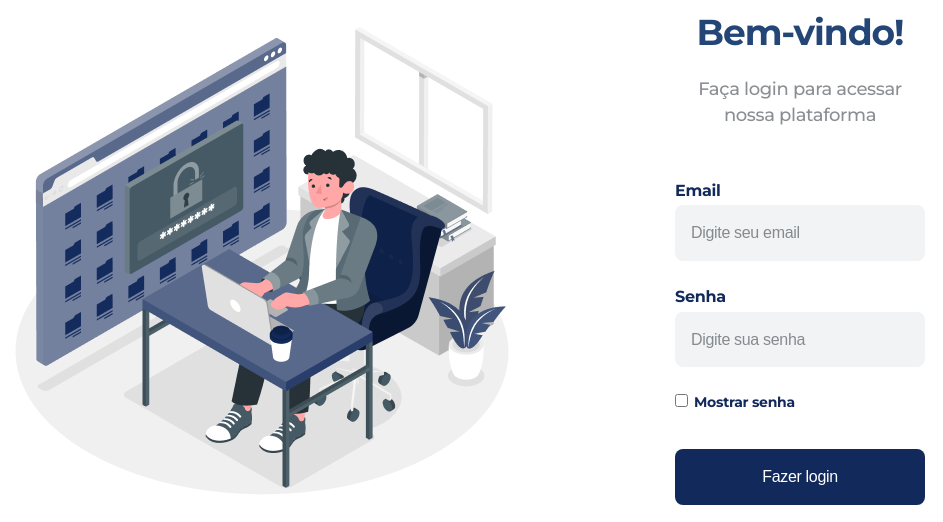
Test case: Exibe mensagem de erro caso haja problemas no login › Exibe mensagem "Erro no sistema, tente novamente mais tarde"
Type "email@email.com" into the field labelled "Email" at x=800, y=233, box [675,205,925,261]
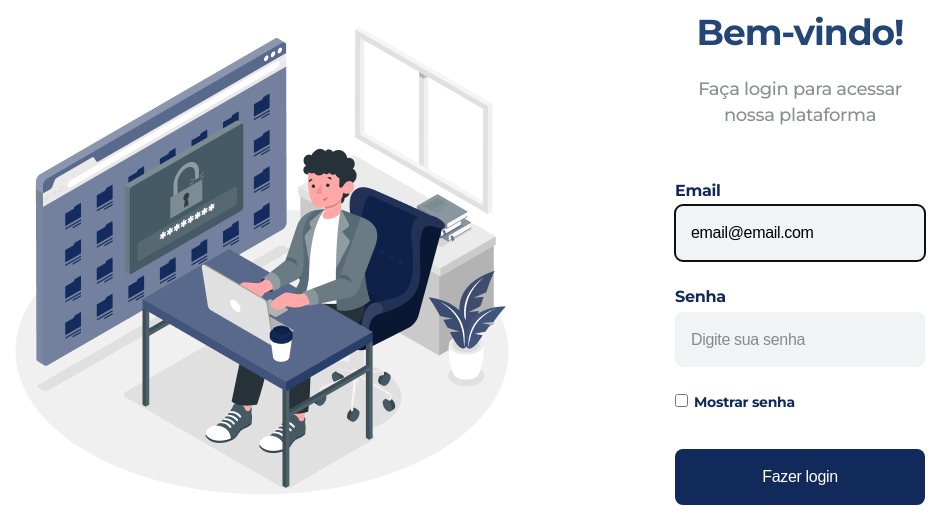
Type "123456" into the password field labelled "Senha" at x=800, y=340, box [675,312,925,367]
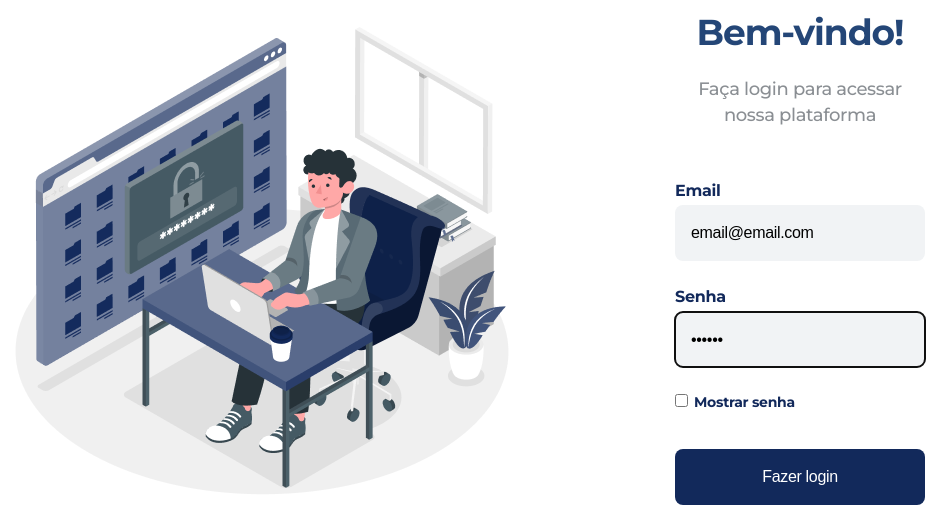
Click the button "Fazer login" at x=800, y=477, box [675,449,925,505]
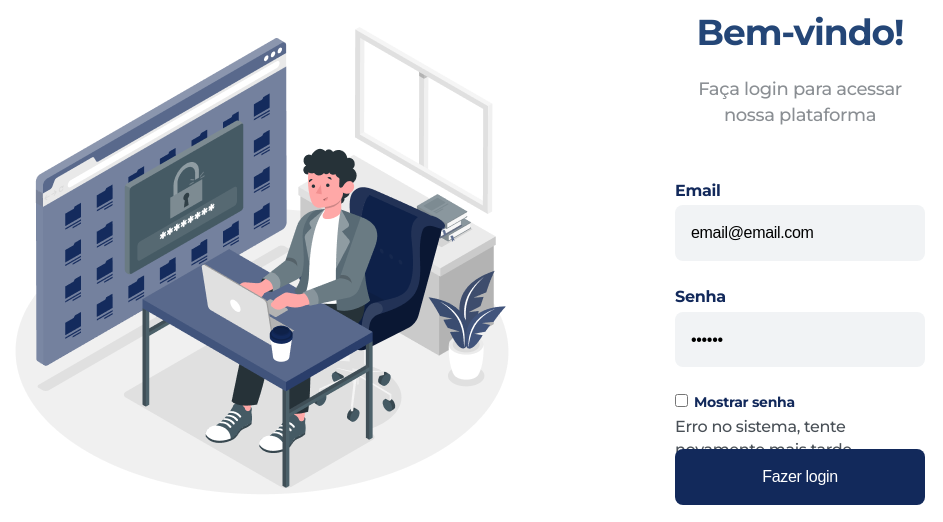
Expected: the text "Erro no sistema, tente novamente mais tarde" is shown, [675,417,852,459]
